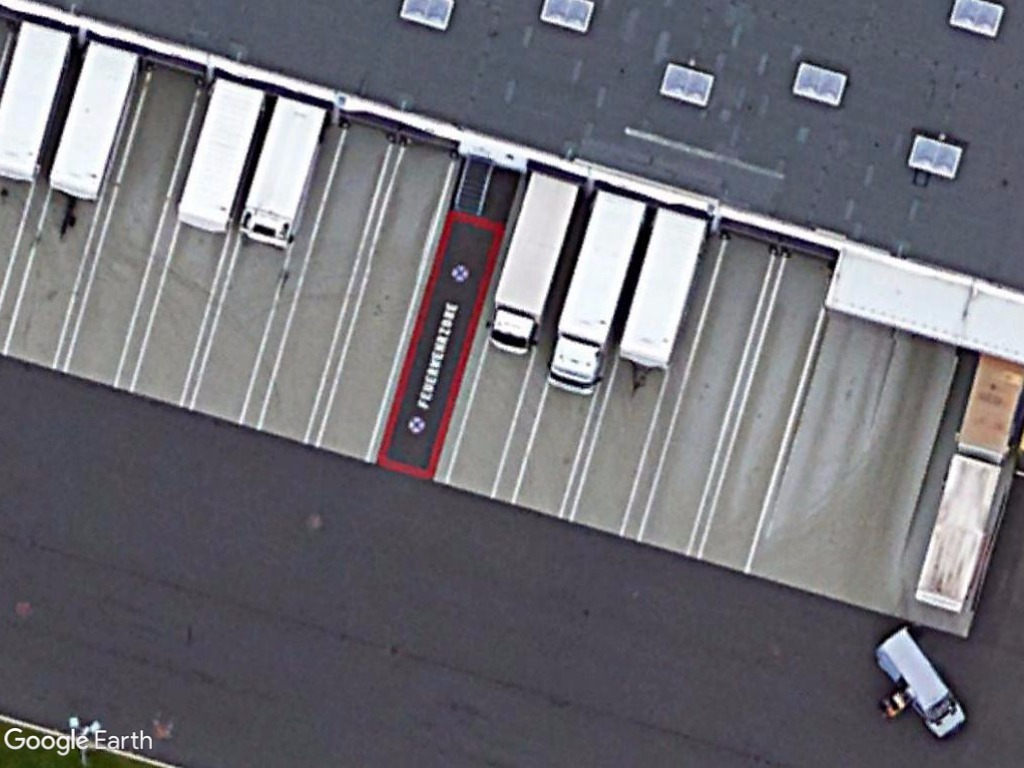truck: (533, 190, 655, 400), (486, 165, 584, 357)
van: (874, 622, 966, 738)
